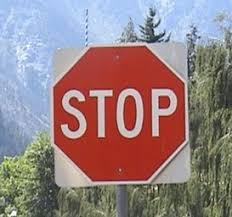Stop: (57, 47, 192, 182)
